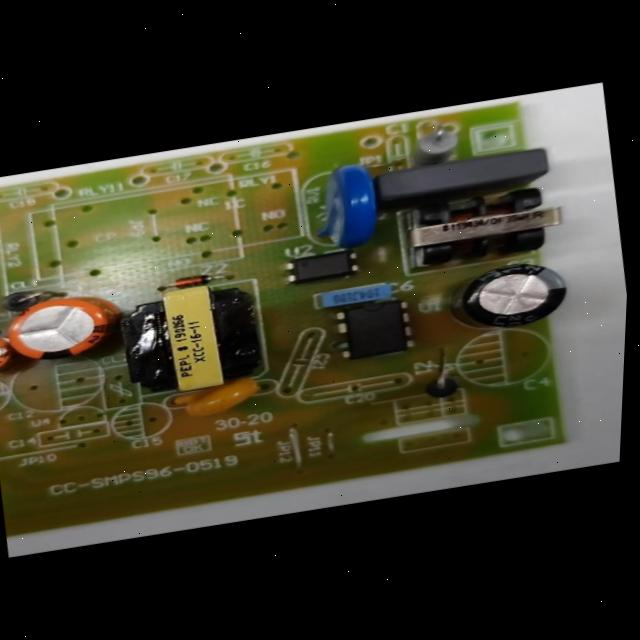Cap1: (1, 292, 120, 364)
Cap2: (0, 331, 14, 372)
Cap3: (443, 257, 574, 332)
MOSFET: (331, 296, 417, 362)
Mov: (308, 162, 385, 248)
Resistor: (407, 122, 466, 167)
Transformer: (115, 279, 269, 401), (397, 180, 570, 272)
